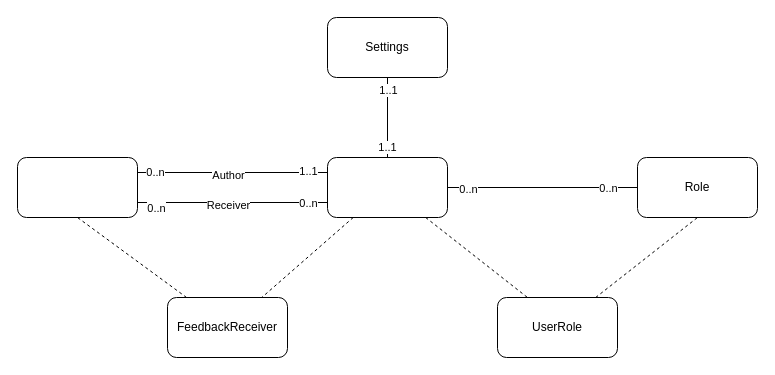
This 775x375 diagram has some shape labels left out. The centre of each missing label's shape, as x and y in pixels:
"Feedback" belongs at point (77, 187).
"User" belongs at point (387, 187).
